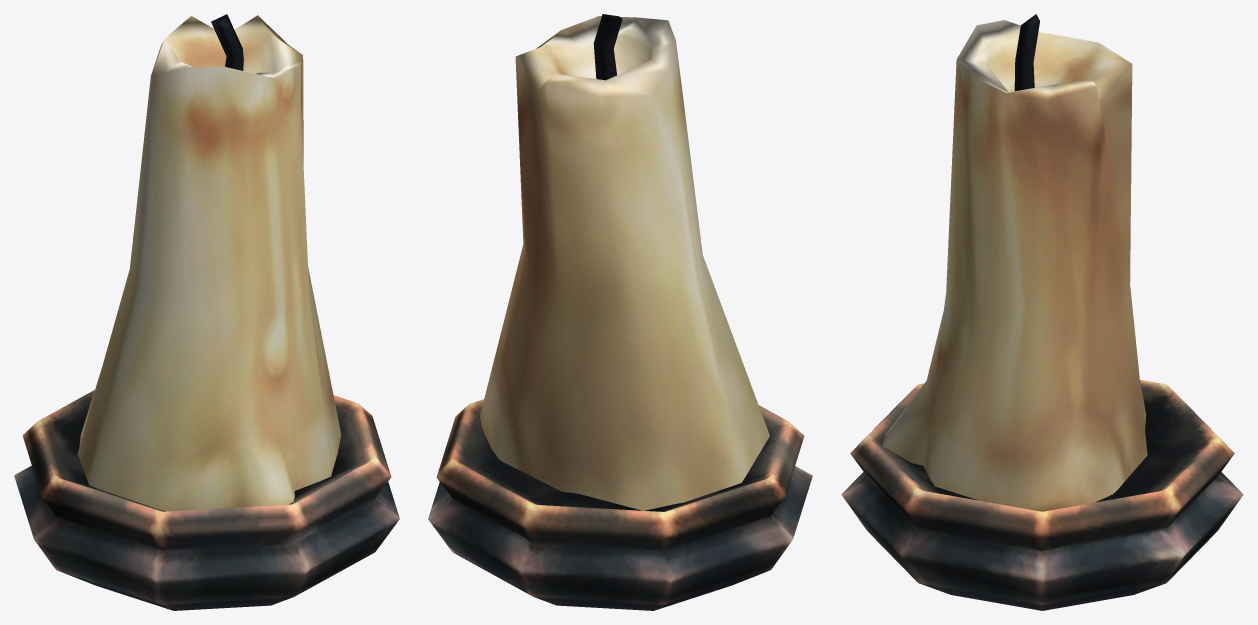
The model's file is SM_candle_01.gltf.
The picture shows the model from 3 angles, left to right: view 1: azimuth 30°, elevation 25°; view 2: azimuth 150°, elevation 25°; view 3: azimuth 270°, elevation 25°; orthographic projection.
Parts seen in each view (by area): view 1: SM_candle_01; view 2: SM_candle_01; view 3: SM_candle_01.
Boxes of the visible parts, bbox=[...] form: SM_candle_01: bbox=[14, 14, 399, 610]; SM_candle_01: bbox=[428, 14, 812, 610]; SM_candle_01: bbox=[841, 14, 1243, 610].
Size of the model in its own units: 0.189 by 0.2823 by 0.189.
Materials: 1 (1 with a texture image).
